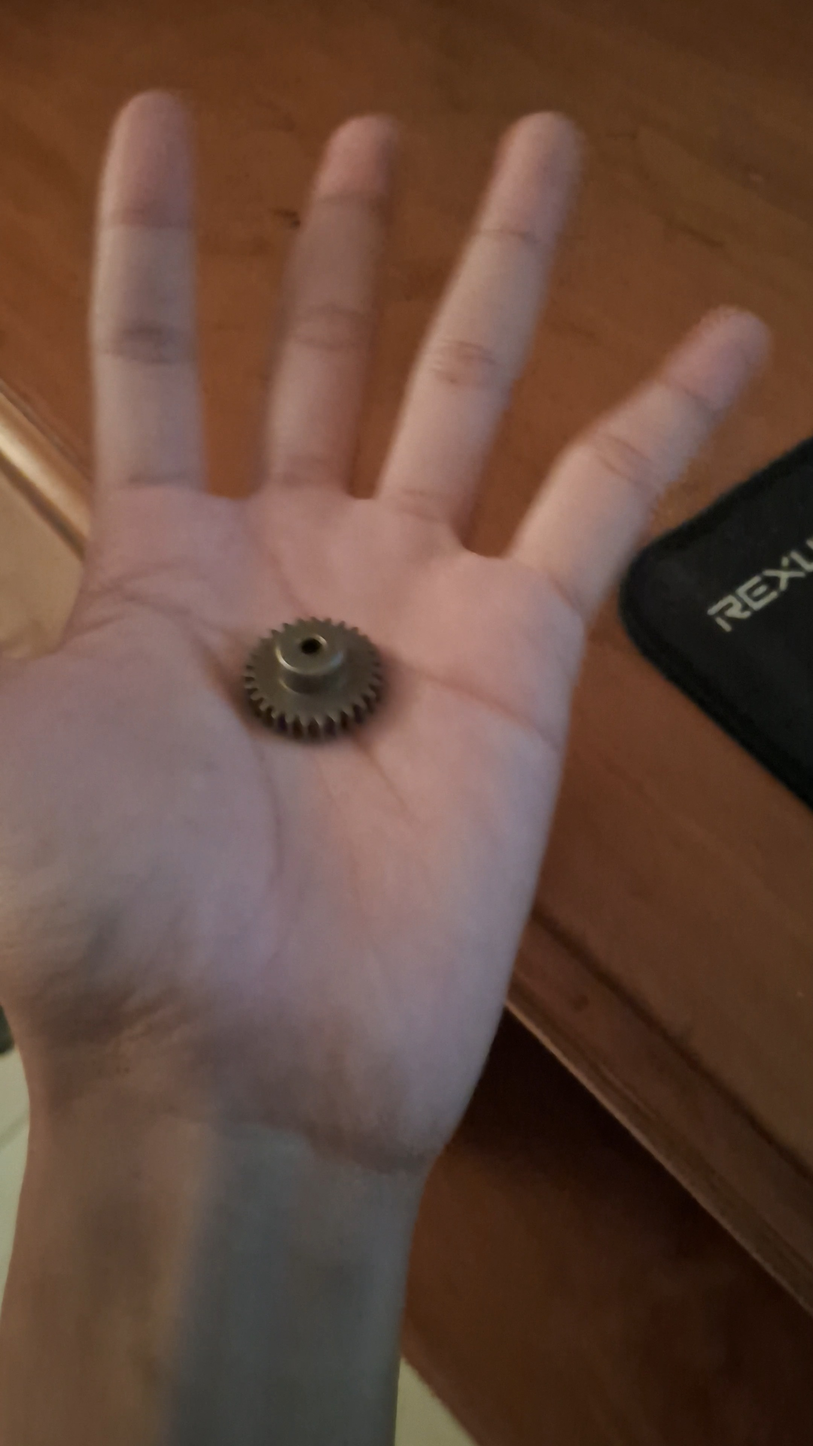spur gear: (244, 618, 383, 740)
